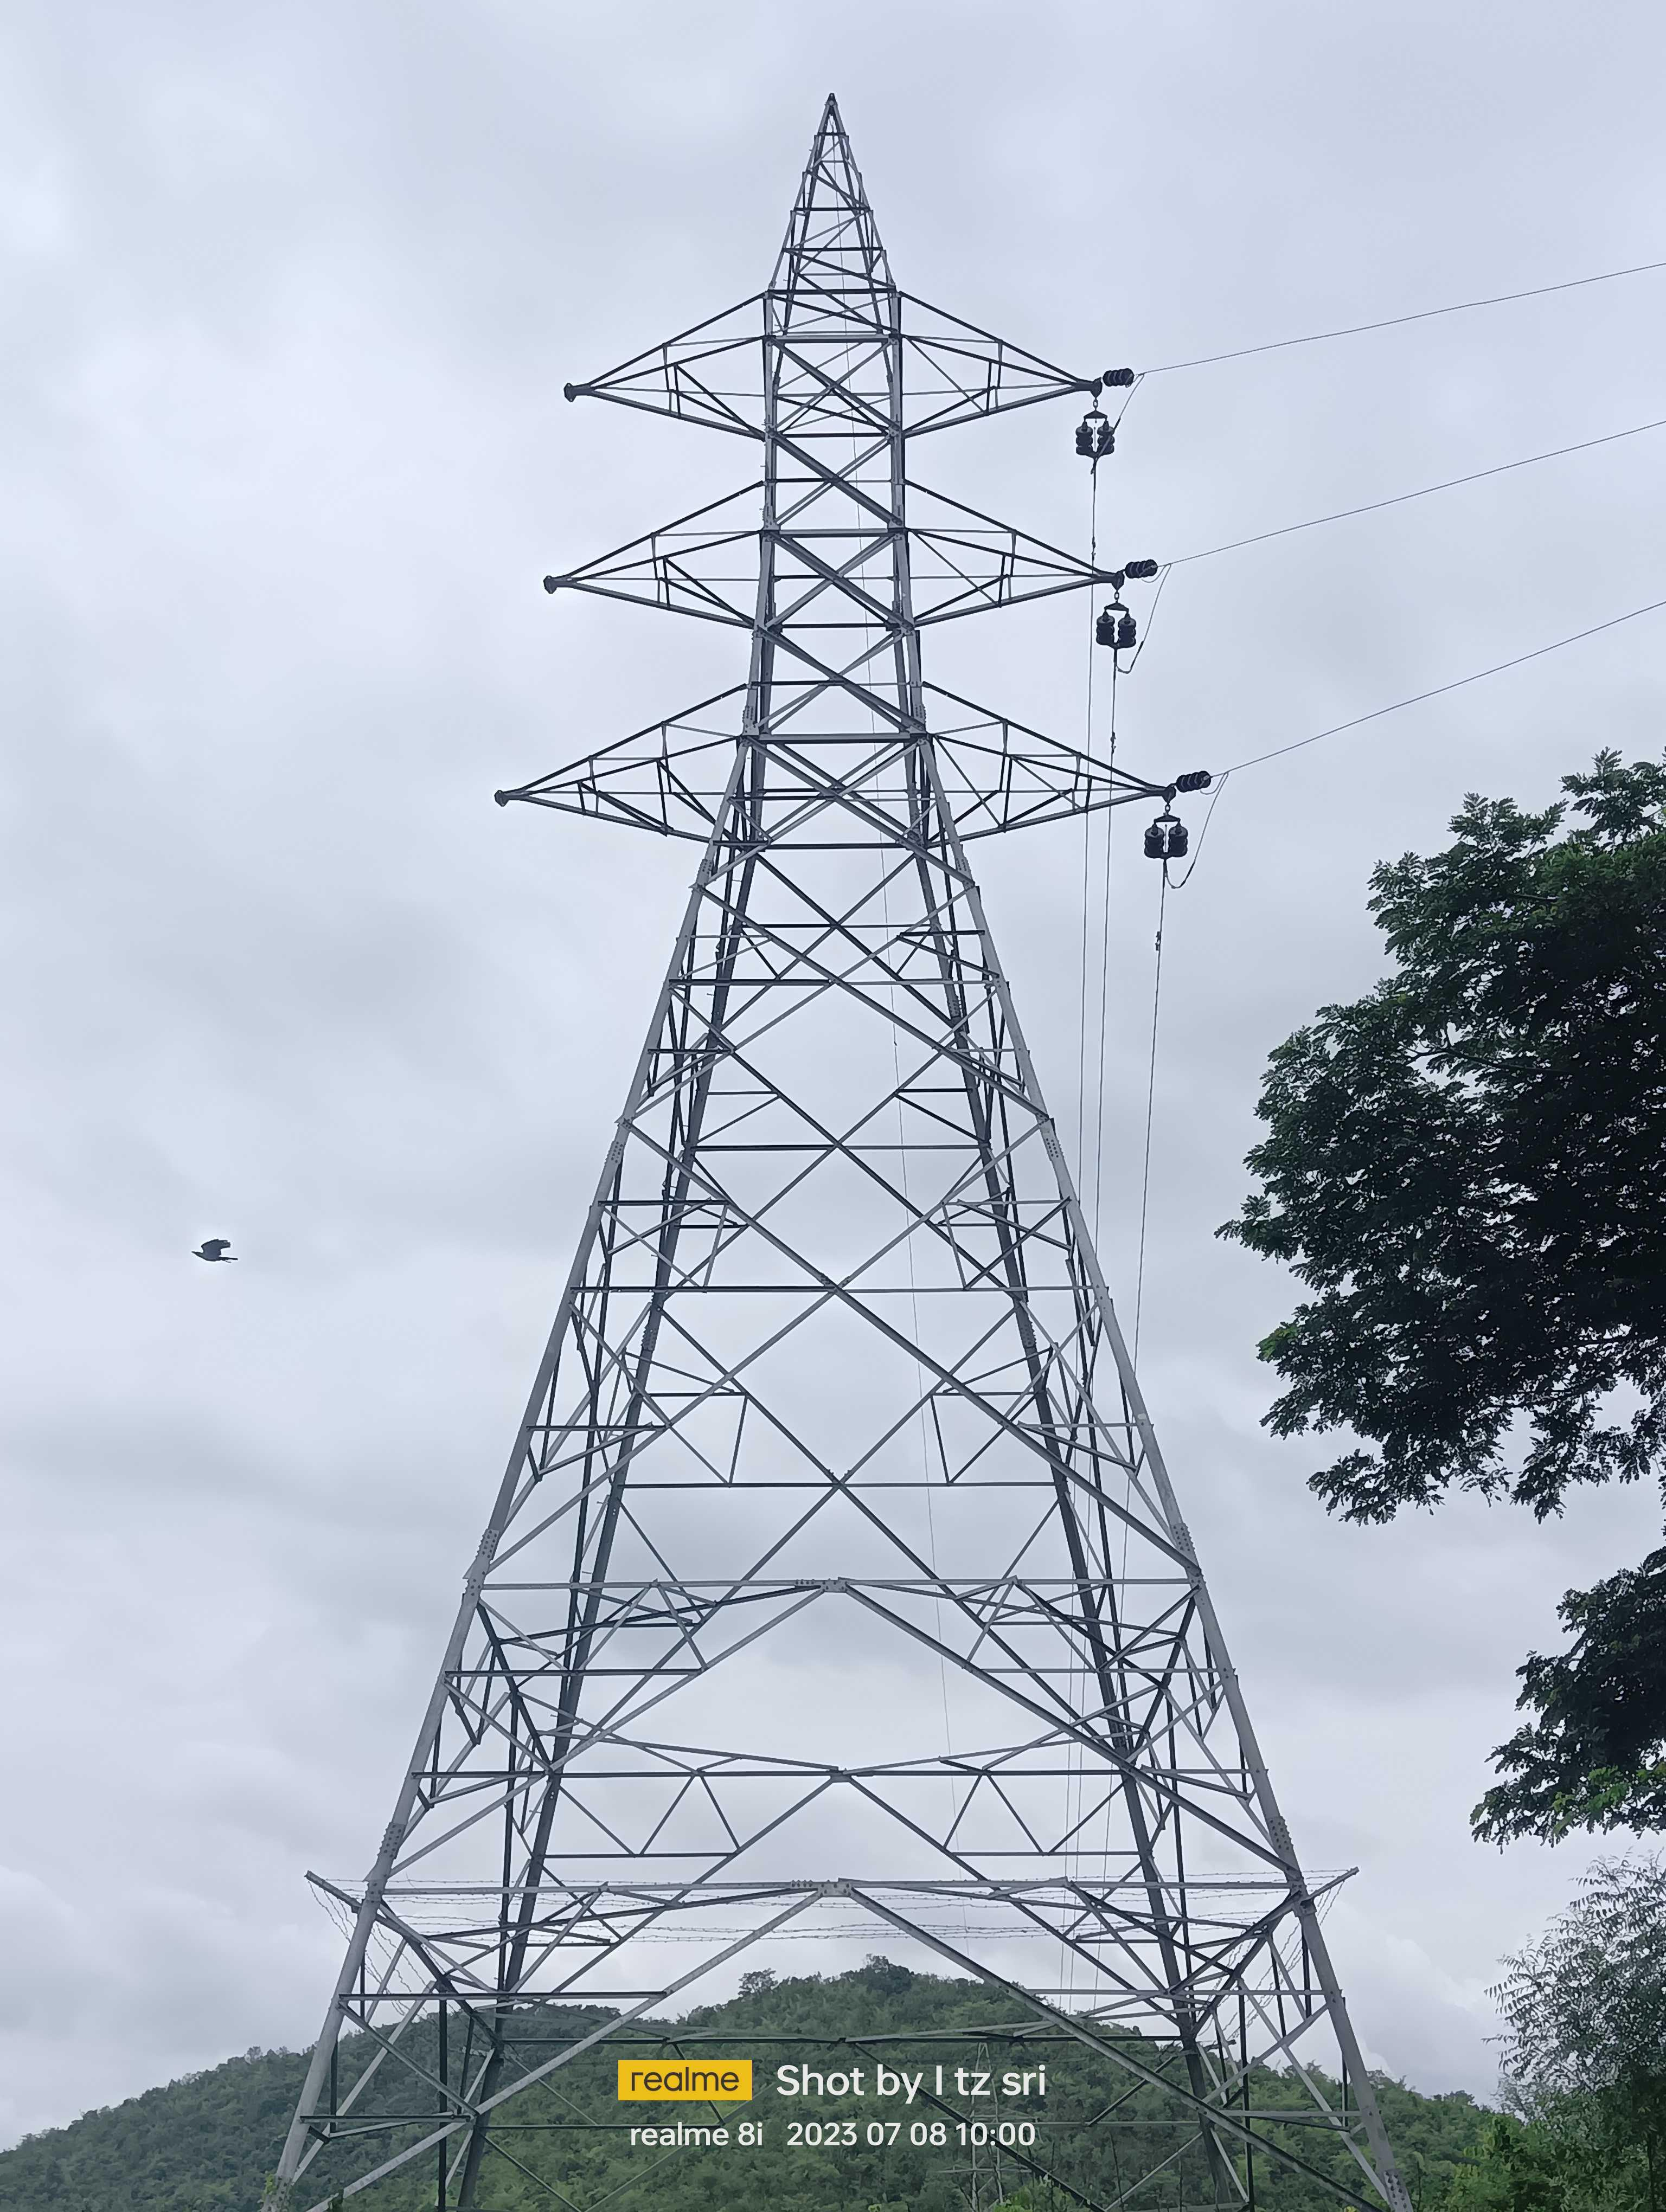GSM Antenna: (284, 63, 1381, 2022)
